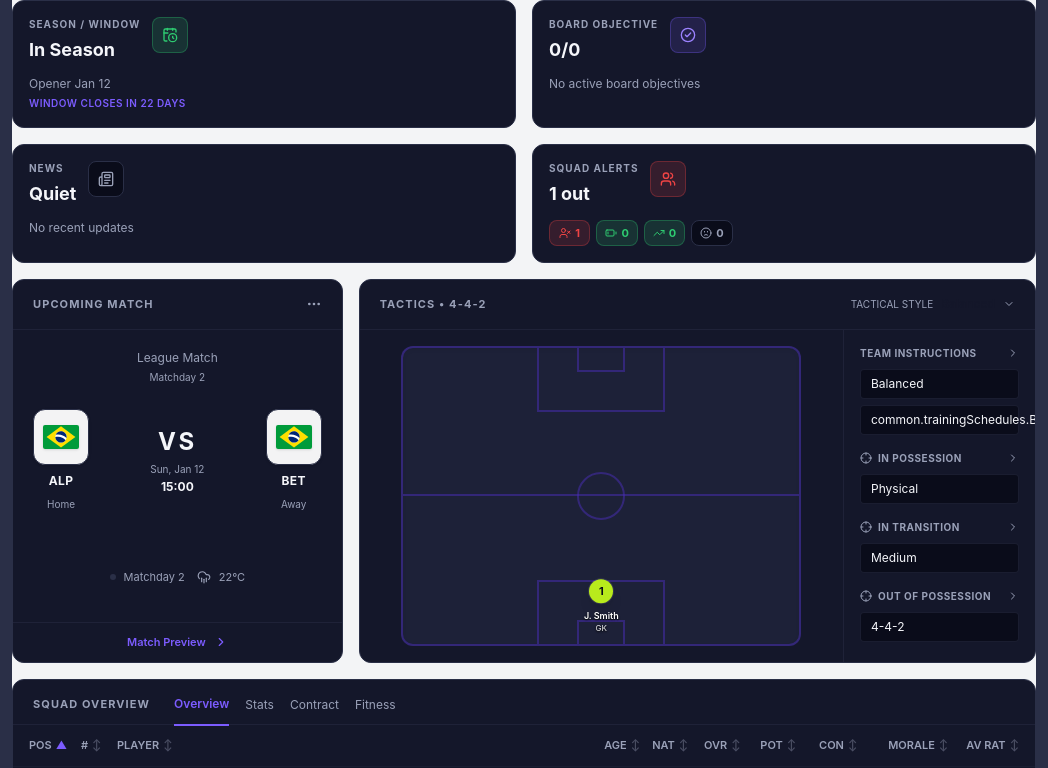
HomeTab › switches squad overview tabs to real column views
The image size is (1048, 768).
Click the button "Stats" at (260, 711), box [245,697,274,725]
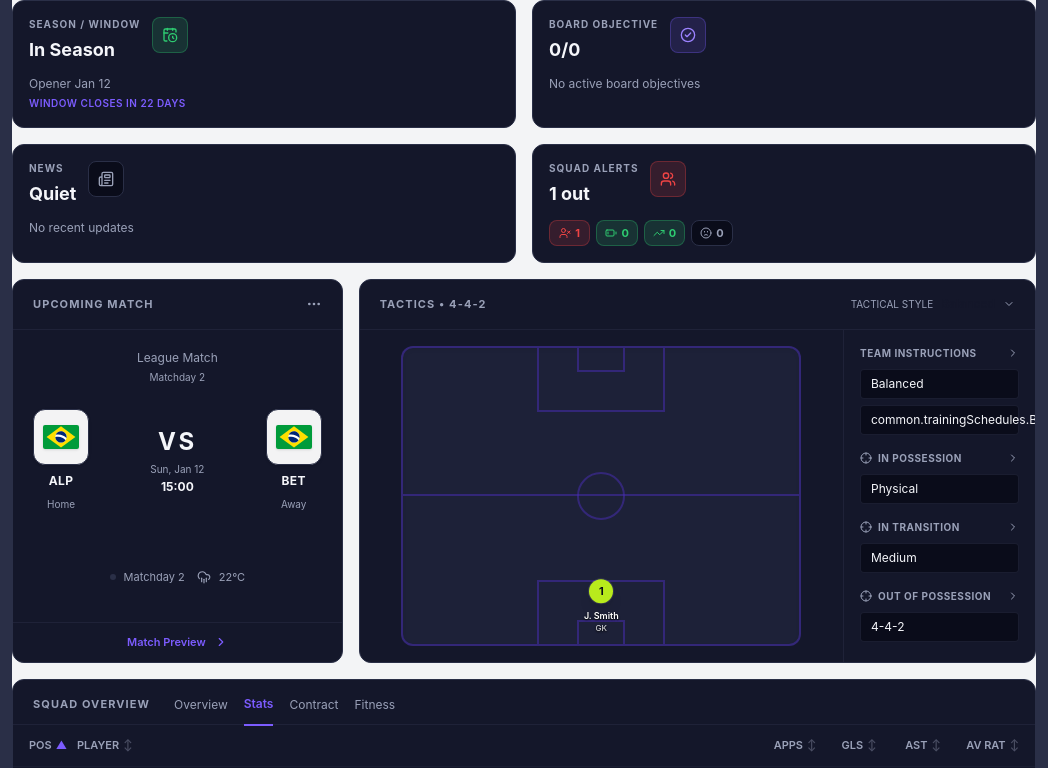
Now the text "APPS" is shown, box [774,737,803,754]
Now the text "GLS" is shown, box [842,737,863,754]
Click the button "Contract" at (314, 711), box [290,697,338,725]
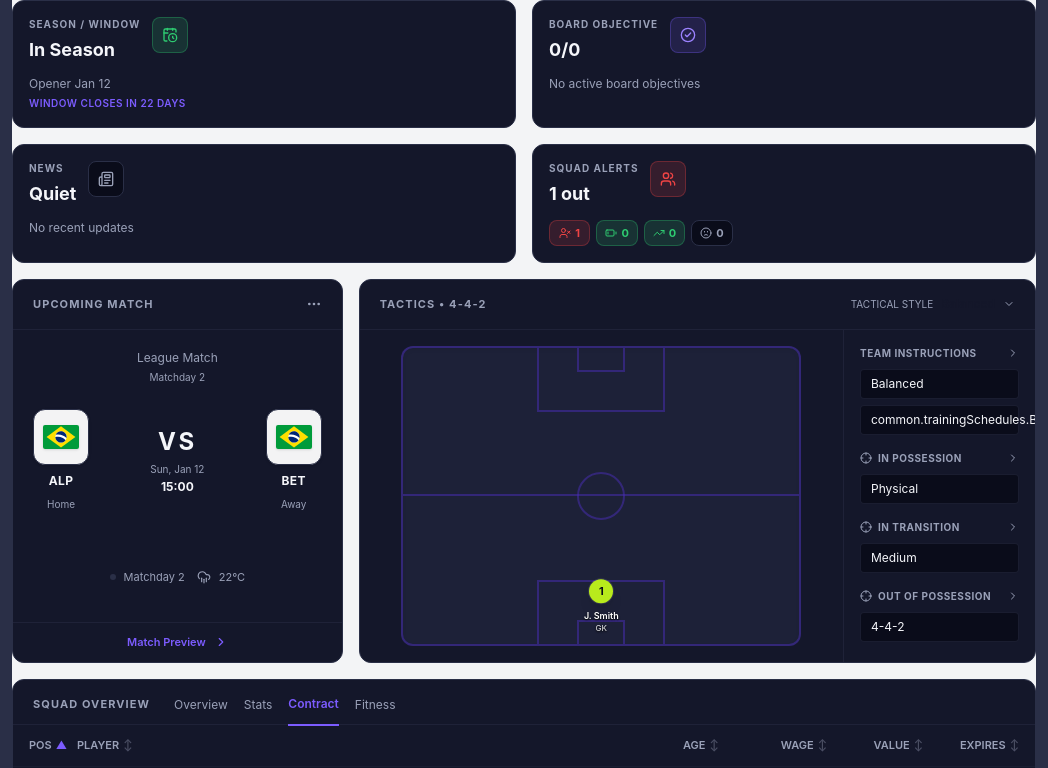
Now the text "WAGE" is shown, box [781,737,814,754]
Now the text "VALUE" is shown, box [874,737,910,754]
Click the button "Fitness" at (375, 711), box [355,697,396,725]
(page scrolled)
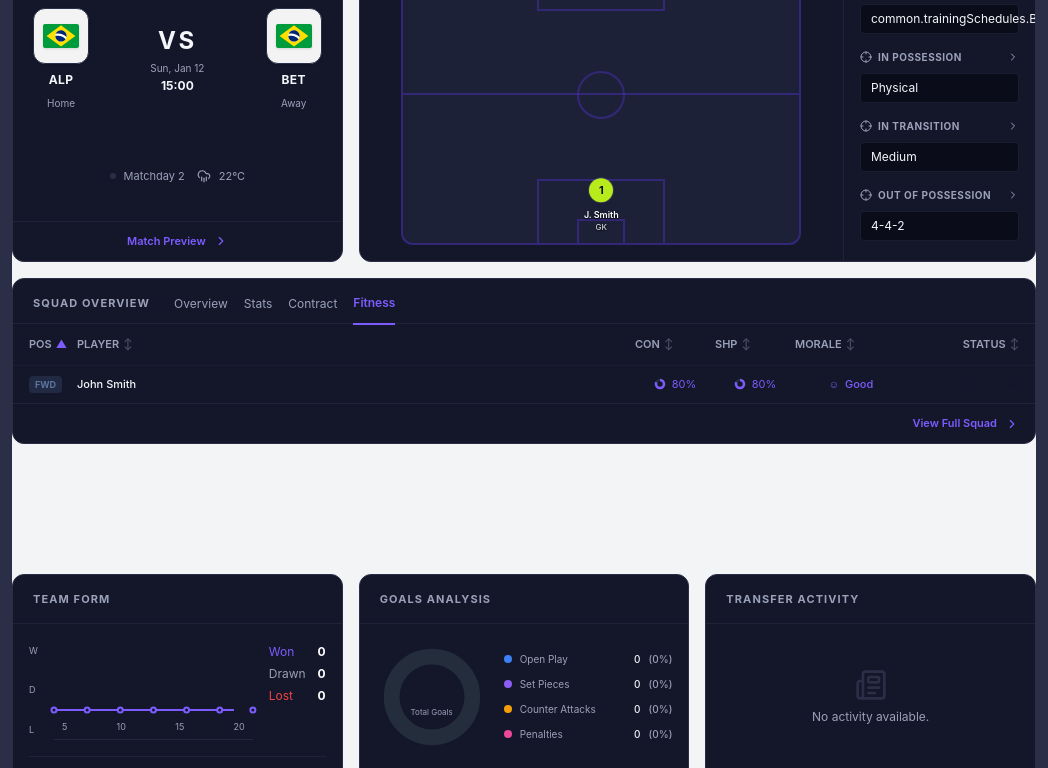
Now the text "STATUS" is shown, box [963,336,1006,352]
Now the text "Hamstring Strain" is shown, box [907,365,1035,403]
